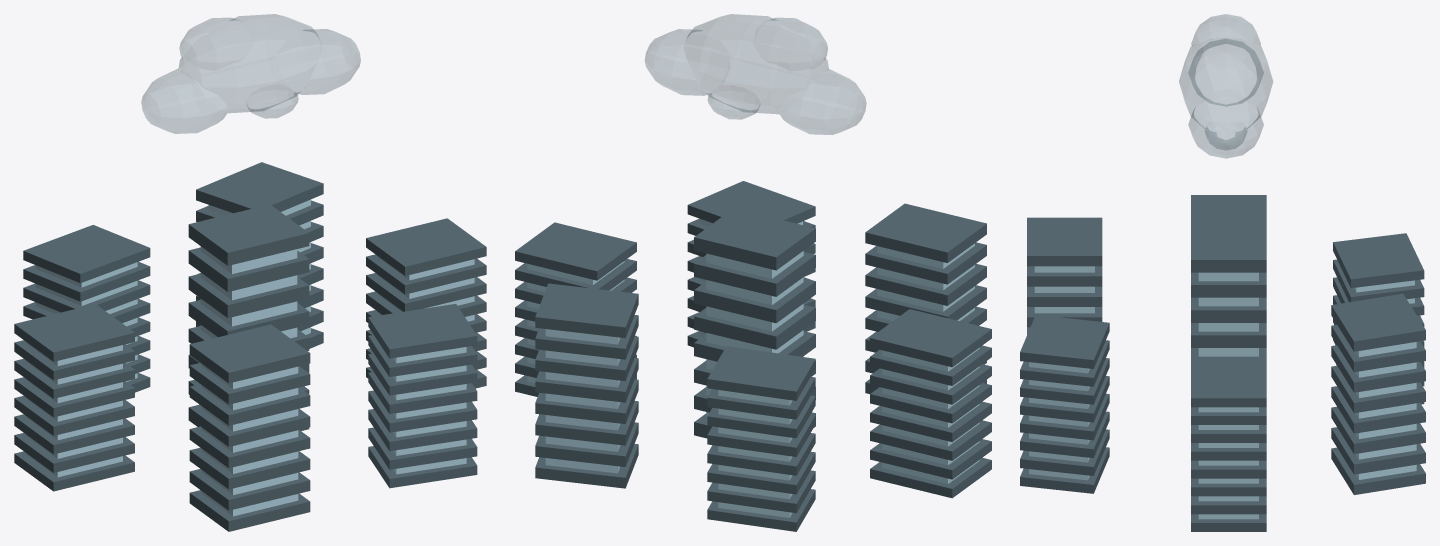
File: highrise.dae
3 renders of one model, left to right at view 1: azimuth 30°, elevation 25°; view 2: azimuth 150°, elevation 25°; view 3: azimuth 270°, elevation 25°, orthographic. The views are drawn at different scales.
Parts seen in each view (by area): view 1: walls (×7), Cloud, windows (×6); view 2: walls (×7), Cloud, windows (×6); view 3: walls (×7), windows (×5), Cloud.
Part boxes in pixels (left/top/right/bottom): walls (×7): left=14, top=162, right=486, bottom=531; Cloud: left=141, top=14, right=360, bottom=133; windows (×6): left=26, top=246, right=474, bottom=516; walls (×7): left=515, top=181, right=991, bottom=531; Cloud: left=645, top=14, right=866, bottom=134; windows (×6): left=527, top=243, right=979, bottom=517; walls (×7): left=1020, top=195, right=1425, bottom=531; windows (×5): left=1029, top=266, right=1416, bottom=519; Cloud: left=1179, top=14, right=1272, bottom=158.
Bounding box in the file's own units: 155 × 141 × 131.
